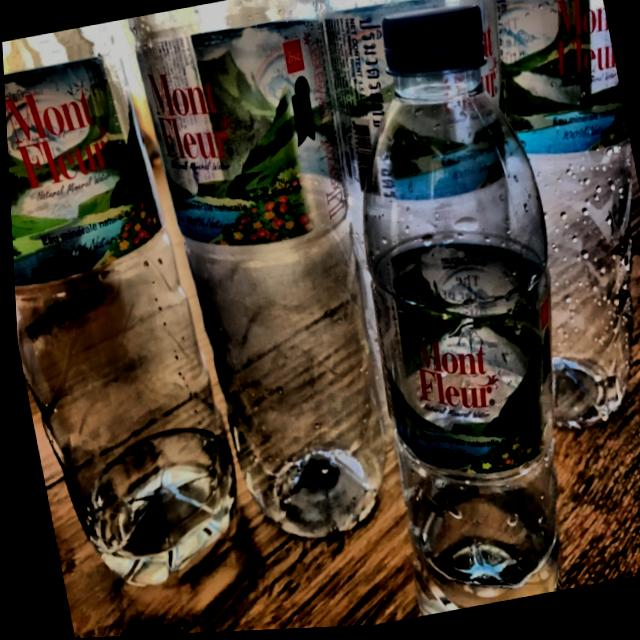Bottles: (294, 0, 631, 625)
